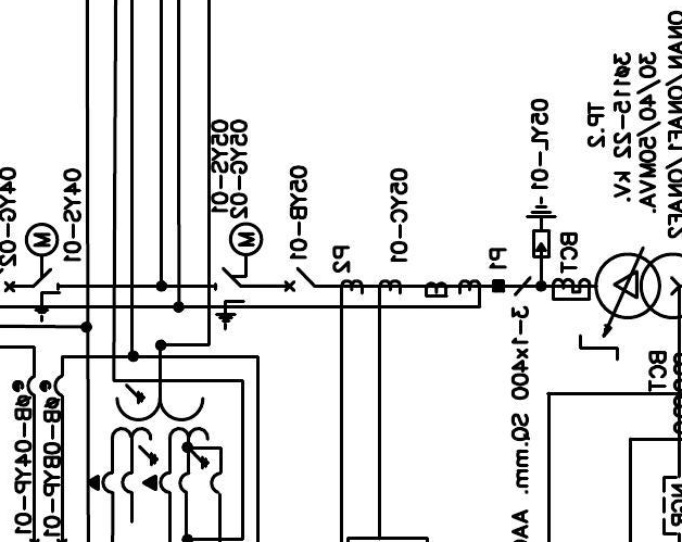115_3ways_ds_w_motor: (214, 221, 265, 331), (24, 221, 62, 323)
115_breaker: (284, 275, 317, 302)
115_la: (524, 196, 558, 260)
115_vt_1p: (87, 383, 211, 495)
